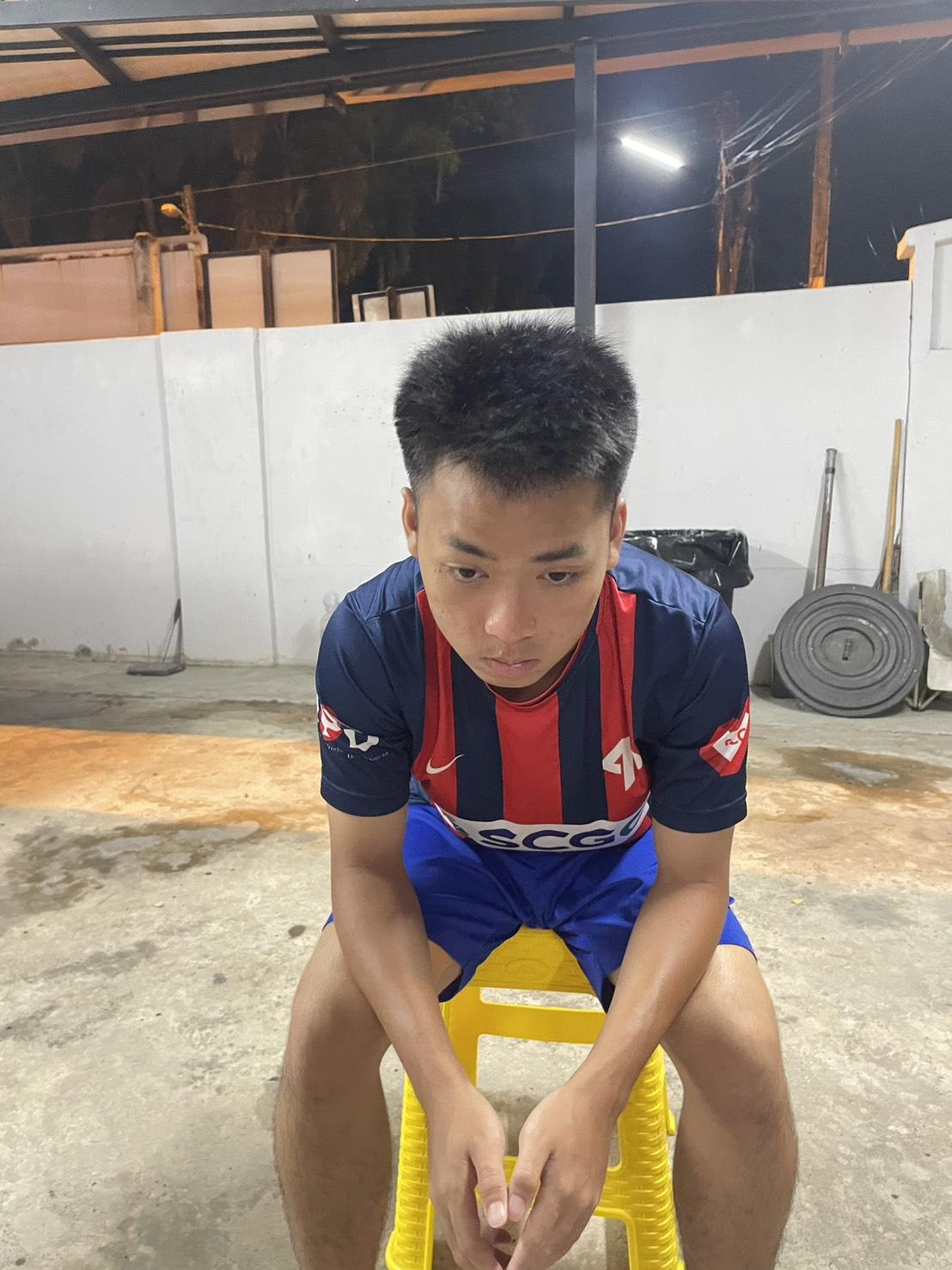BadPosture: (316, 321, 748, 856), (318, 320, 748, 856)
